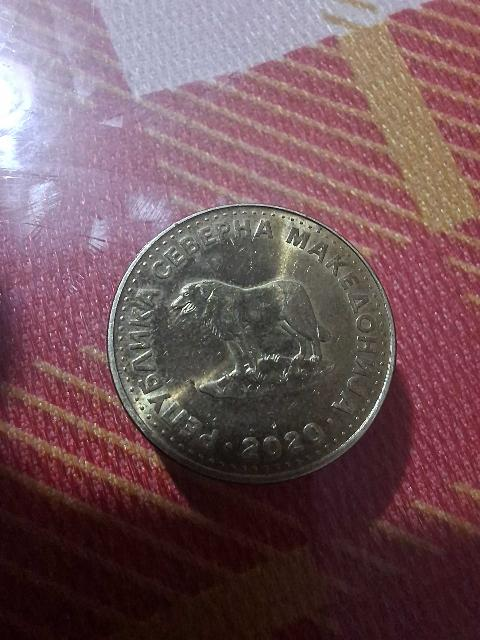1_coin: (108, 205, 395, 482)
